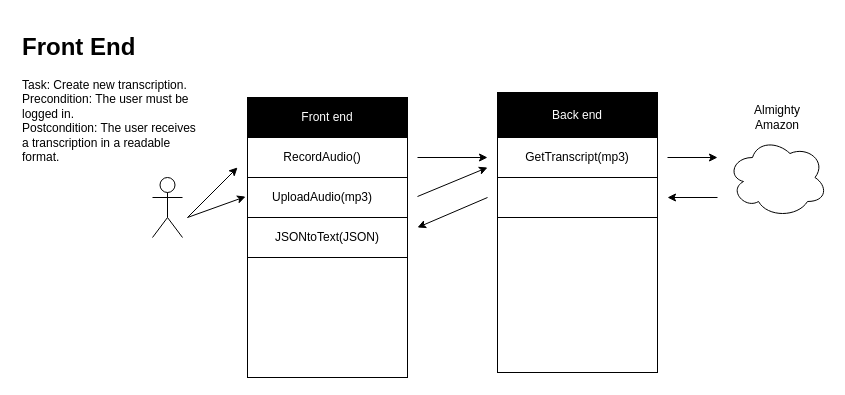
The diagram is 845 pixels wide and 395 high, and some of its shapes have lost their labels. Each missing label, with the centre of its shape:
Actor: (x=167, y=207)
ReturnTranscript(JSON): (x=577, y=197)
